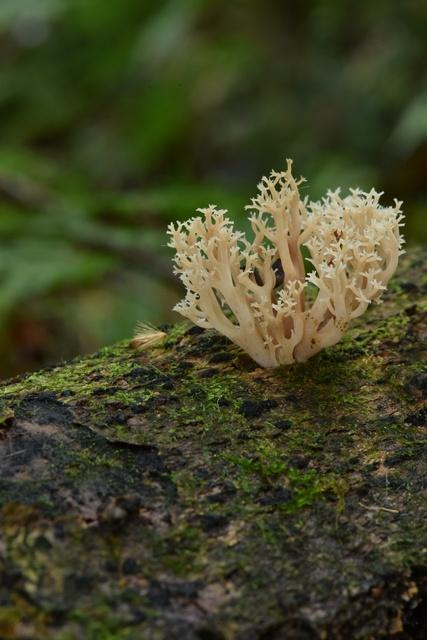edible_mushroom: (164, 156, 406, 369)
